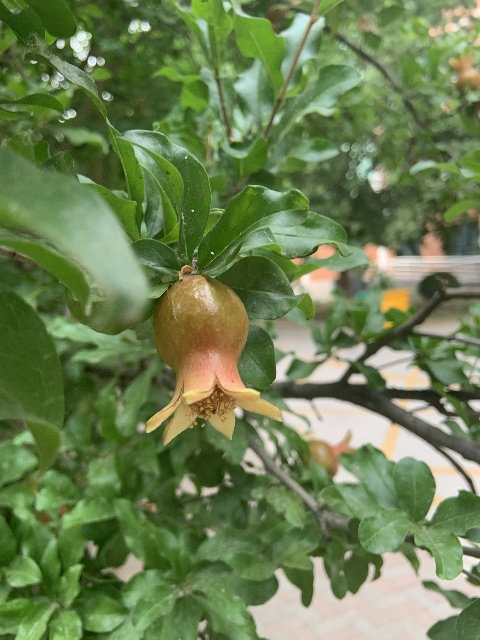early-fruit: (145, 274, 281, 446), (304, 430, 357, 478), (449, 50, 480, 90)
